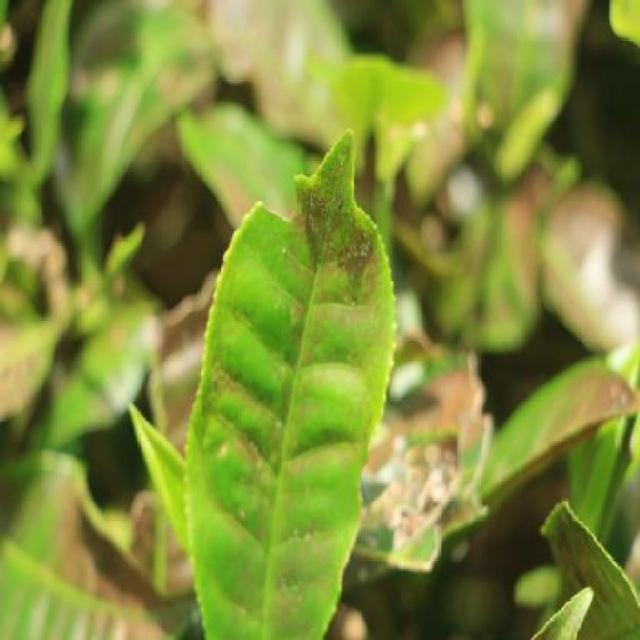Red Spider infested tea leaf: (186, 140, 440, 640)
